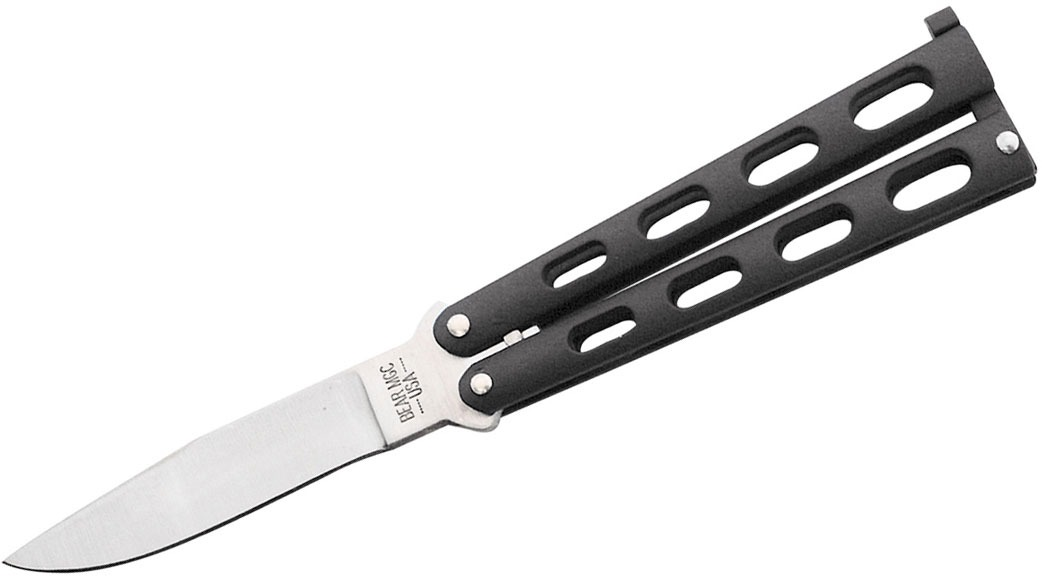knife: (3, 0, 1037, 572)
